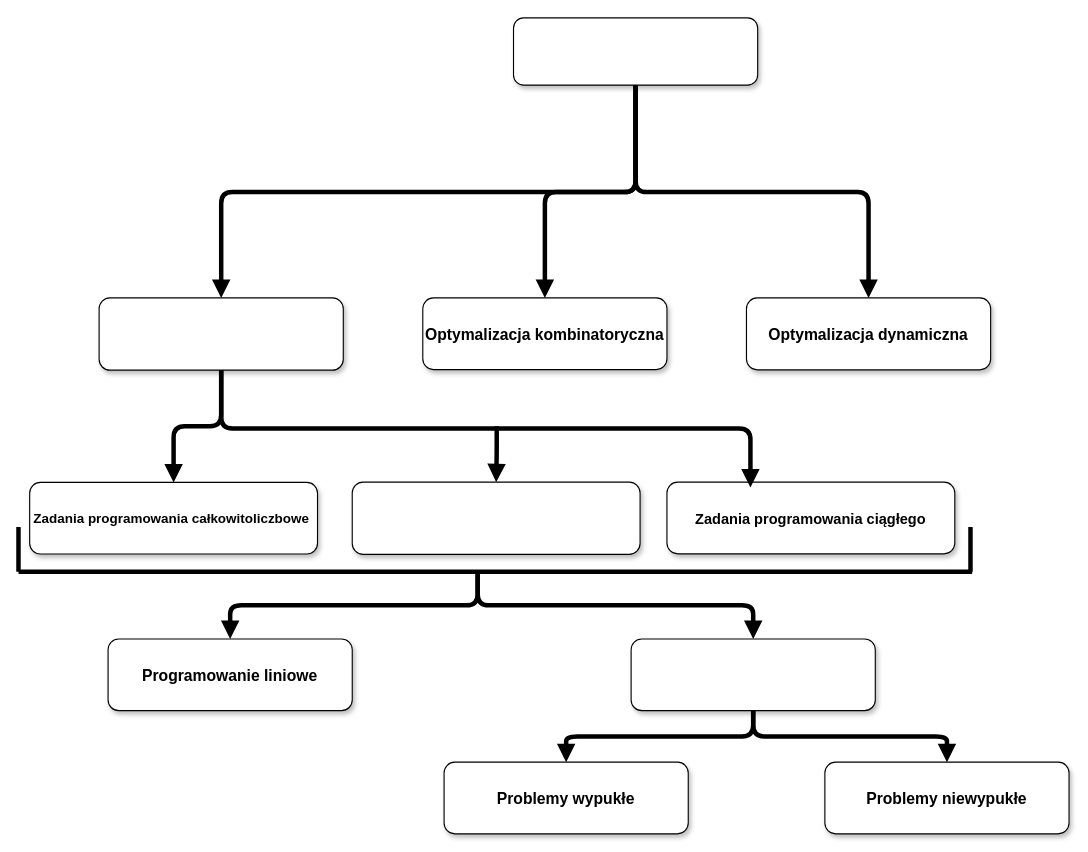
This 1088x852 diagram has some shape labels left out. Each missing label, with the centre of its shape:
Programowanie matematyczne: (x=222, y=335)
Programowanie nieliniowe: (x=754, y=675)
Zadania optymalizacyjne: (x=636, y=52)
Zadania programowania mieszanego: (x=497, y=519)
